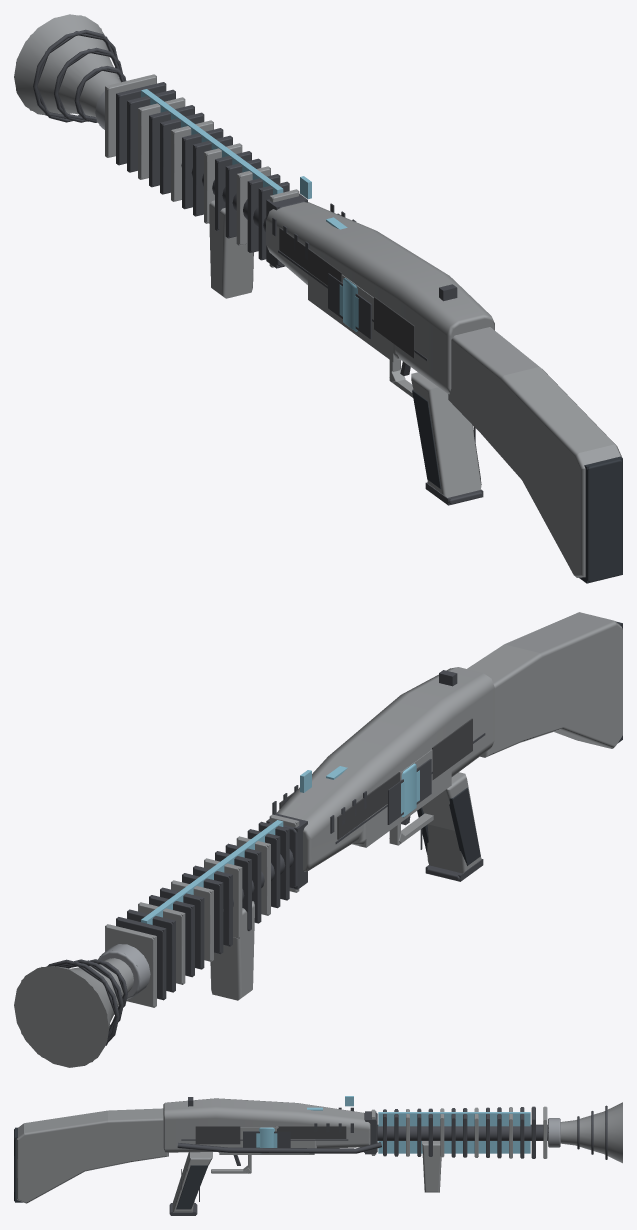
File: x_frost.glb
3 views of the same model, one above another, from view 1: azimuth 30°, elevation 25°; view 2: azimuth 150°, elevation 25°; view 3: azimuth 270°, elevation 25° (orthographic). The views are drawn at different scales.
Visible parts, largest first — view 1: L0, L1; view 2: L0, L1; view 3: L0, L1.
Boxes of the visible parts, x1=… form: L0: x1=14, y1=14, x2=622, y2=582; L1: x1=16, y1=15, x2=622, y2=583; L0: x1=14, y1=612, x2=622, y2=1067; L1: x1=14, y1=621, x2=622, y2=1067; L0: x1=14, y1=1096, x2=622, y2=1214; L1: x1=15, y1=1103, x2=622, y2=1215.
Bounding box in the file's own units: 0.0966 × 0.1989 × 0.9578.
